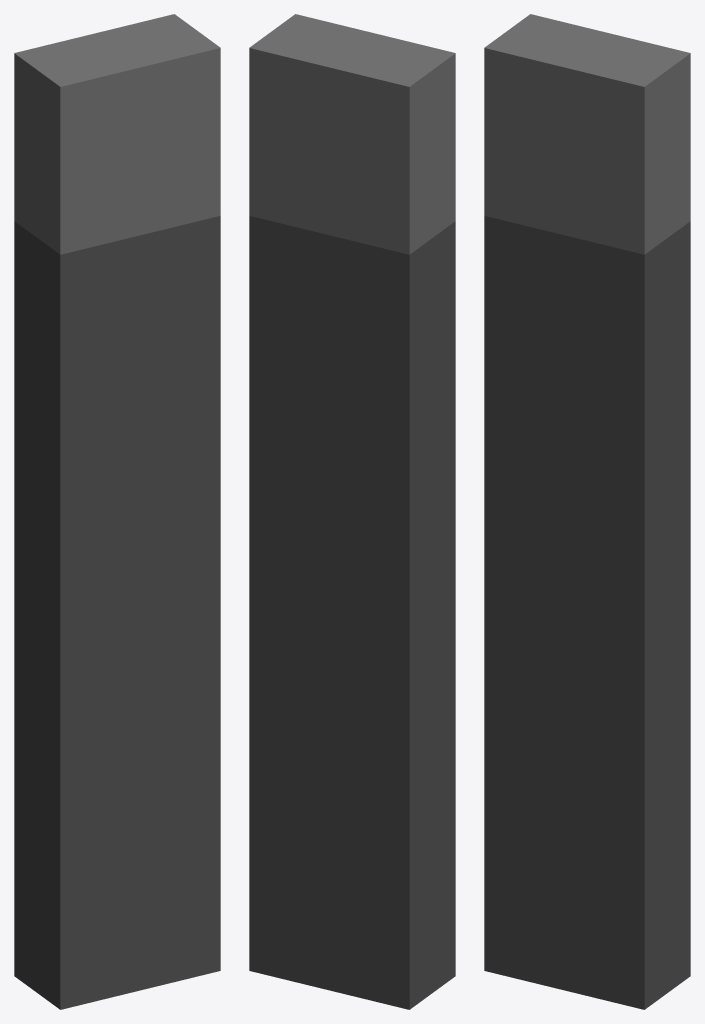
Rendered from SwitchLever.obj.
3 views of the same model, side by side, from view 1: azimuth 30°, elevation 25°; view 2: azimuth 150°, elevation 25°; view 3: azimuth 330°, elevation 25° (orthographic).
Parts seen in each view (by area): view 1: SwitchLever; view 2: SwitchLever; view 3: SwitchLever.
Boxes of the visible parts, x1,y1,x2,y2 form: SwitchLever: [14, 14, 220, 1009]; SwitchLever: [249, 14, 455, 1009]; SwitchLever: [484, 14, 690, 1009].
Bounding box in the file's own units: 2 × 11 × 1.
1 material, 1 textured.
